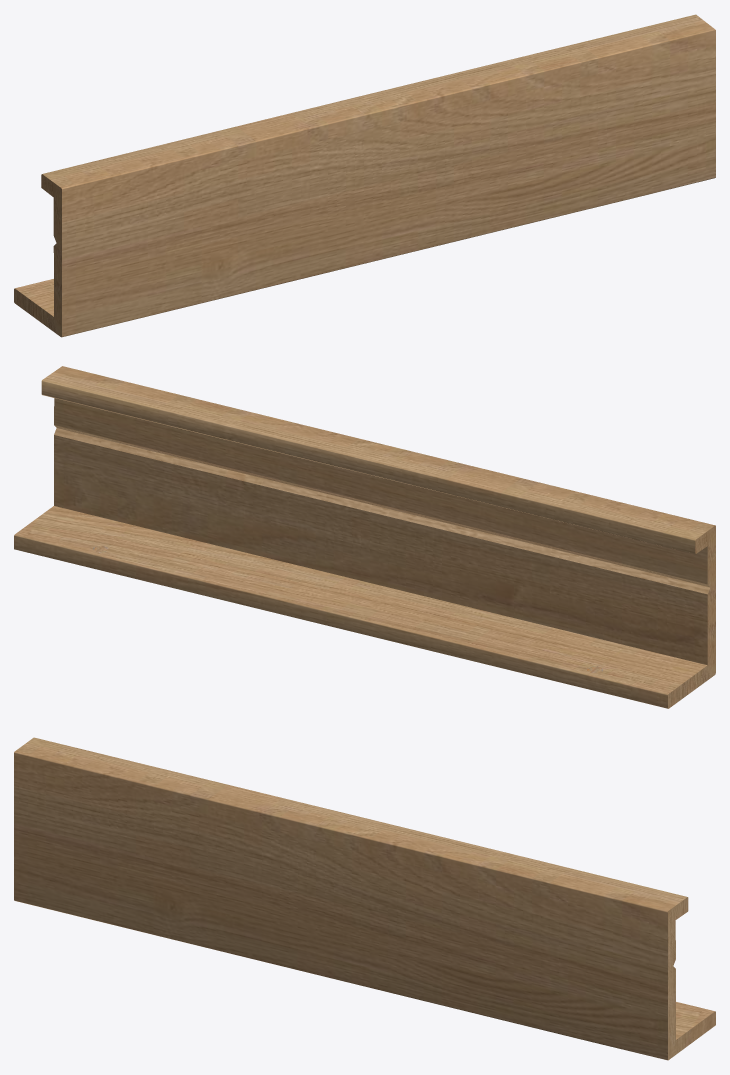
The model's file is mosslanda_poka_na_zdjecia_80589835.glb.
3 views of the same model, one above another, from view 1: azimuth 30°, elevation 25°; view 2: azimuth 150°, elevation 25°; view 3: azimuth 330°, elevation 25° (orthographic).
Visible parts, largest first — view 1: mosslanda_poka_na_zdjecia_80589835; view 2: mosslanda_poka_na_zdjecia_80589835; view 3: mosslanda_poka_na_zdjecia_80589835.
Boxes of the visible parts, left/top/right/bottom form: mosslanda_poka_na_zdjecia_80589835: left=14, top=14, right=715, bottom=337; mosslanda_poka_na_zdjecia_80589835: left=14, top=366, right=715, bottom=708; mosslanda_poka_na_zdjecia_80589835: left=14, top=737, right=715, bottom=1060.
Bounding box in the file's own units: 0.5501 × 0.12 × 0.07.
Materials: 1 (1 with a texture image).
